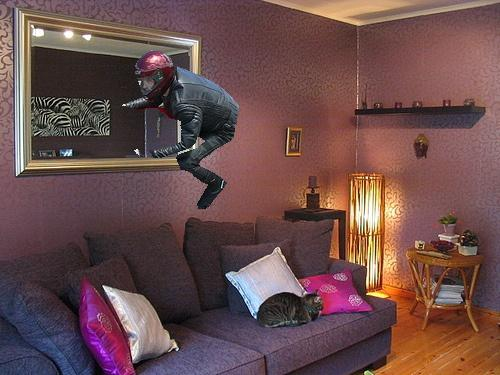tampered: (123, 51, 239, 209)
